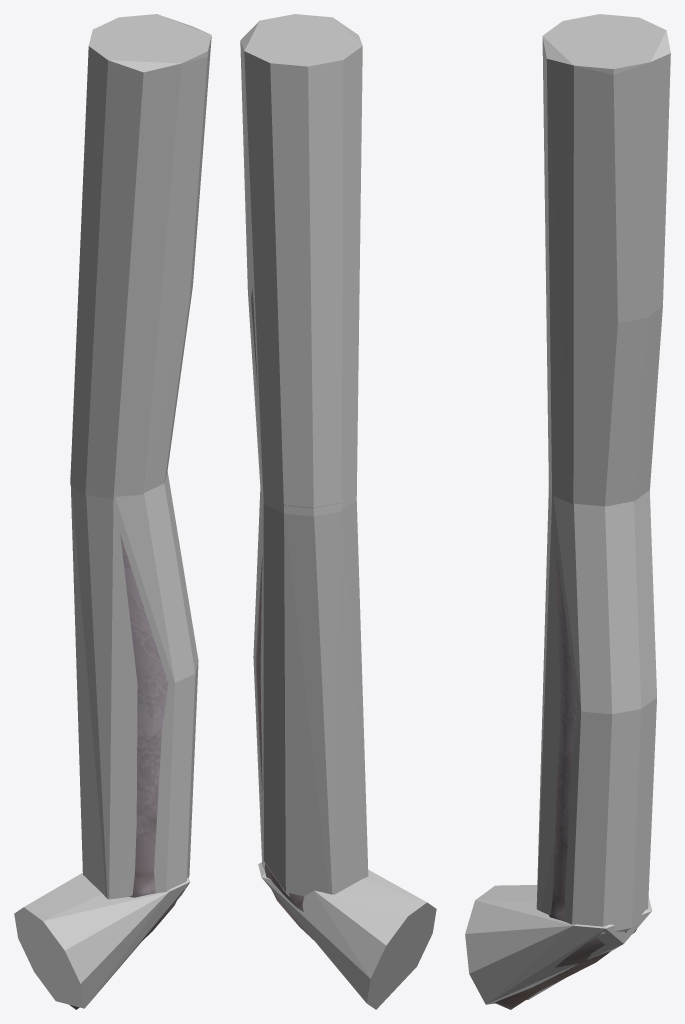
The model's file is SM_PropRoofDrainage01_6.fbx.
3 views of the same model, side by side, from view 1: azimuth 30°, elevation 25°; view 2: azimuth 150°, elevation 25°; view 3: azimuth 330°, elevation 25° (orthographic). The views are drawn at different scales.
Visible parts, largest first — view 1: SM_PropRoofDrainage01_6_ConvexHulls, SM_PropRoofDrainage01_6; view 2: SM_PropRoofDrainage01_6_ConvexHulls, SM_PropRoofDrainage01_6; view 3: SM_PropRoofDrainage01_6_ConvexHulls, SM_PropRoofDrainage01_6.
Part boxes in pixels (box(x1,y1,x2,y2)): SM_PropRoofDrainage01_6_ConvexHulls: box(14, 14, 211, 1008); SM_PropRoofDrainage01_6: box(70, 534, 179, 1009); SM_PropRoofDrainage01_6_ConvexHulls: box(240, 14, 436, 1009); SM_PropRoofDrainage01_6: box(250, 289, 313, 939); SM_PropRoofDrainage01_6_ConvexHulls: box(465, 14, 670, 1004); SM_PropRoofDrainage01_6: box(494, 537, 636, 1009).
Bounding box in the file's own units: 32.26 × 22.68 × 173.
Materials: 2 (1 with a texture image).
